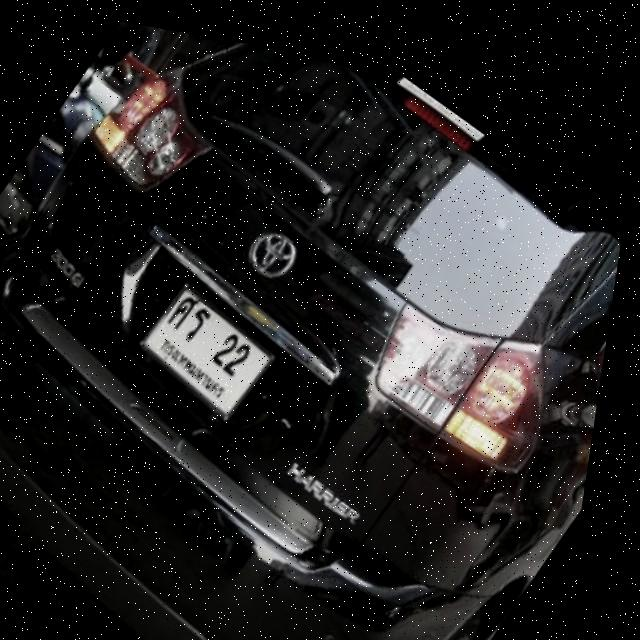license_plate: (134, 266, 296, 419)
